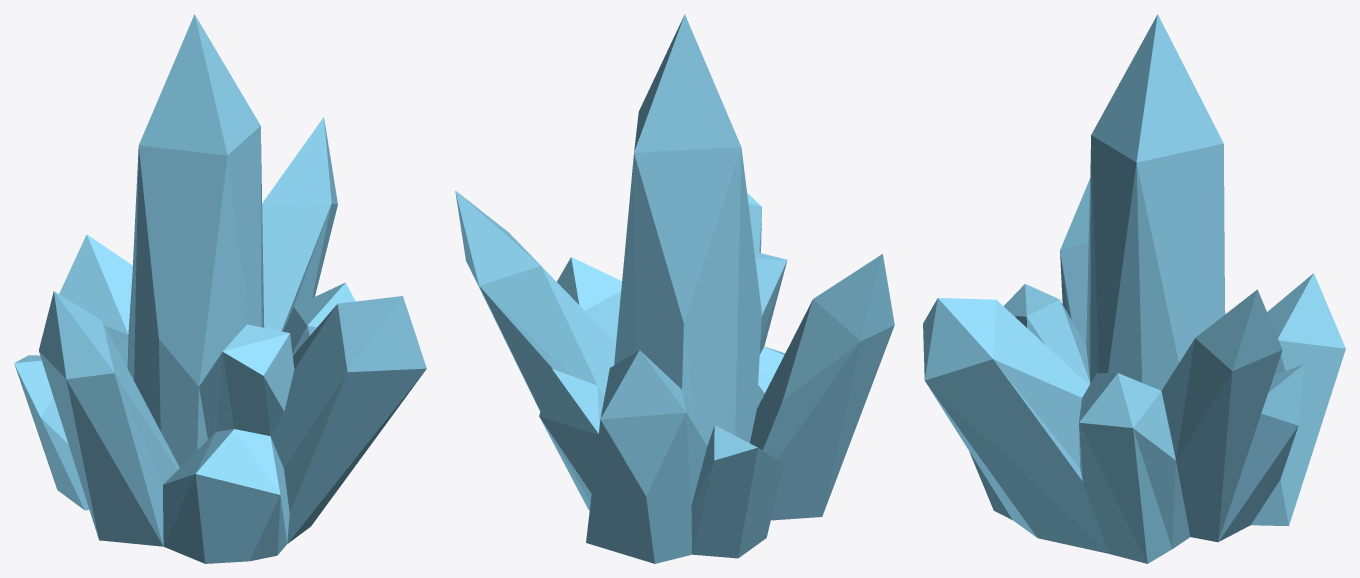
Rendered from CrystalGreen.fbx.
The picture shows the model from 3 angles, left to right: view 1: azimuth 30°, elevation 25°; view 2: azimuth 150°, elevation 25°; view 3: azimuth 270°, elevation 25°; orthographic projection. The views are drawn at different scales.
Visible parts, largest first — view 1: Cube.001; view 2: Cube.001; view 3: Cube.001.
Part boxes in pixels (box(x1,y1,x2,y2)): Cube.001: box(14, 14, 426, 563); Cube.001: box(455, 14, 894, 563); Cube.001: box(923, 14, 1345, 563).
Bounding box in the file's own units: 88.82 × 118 × 91.3.
